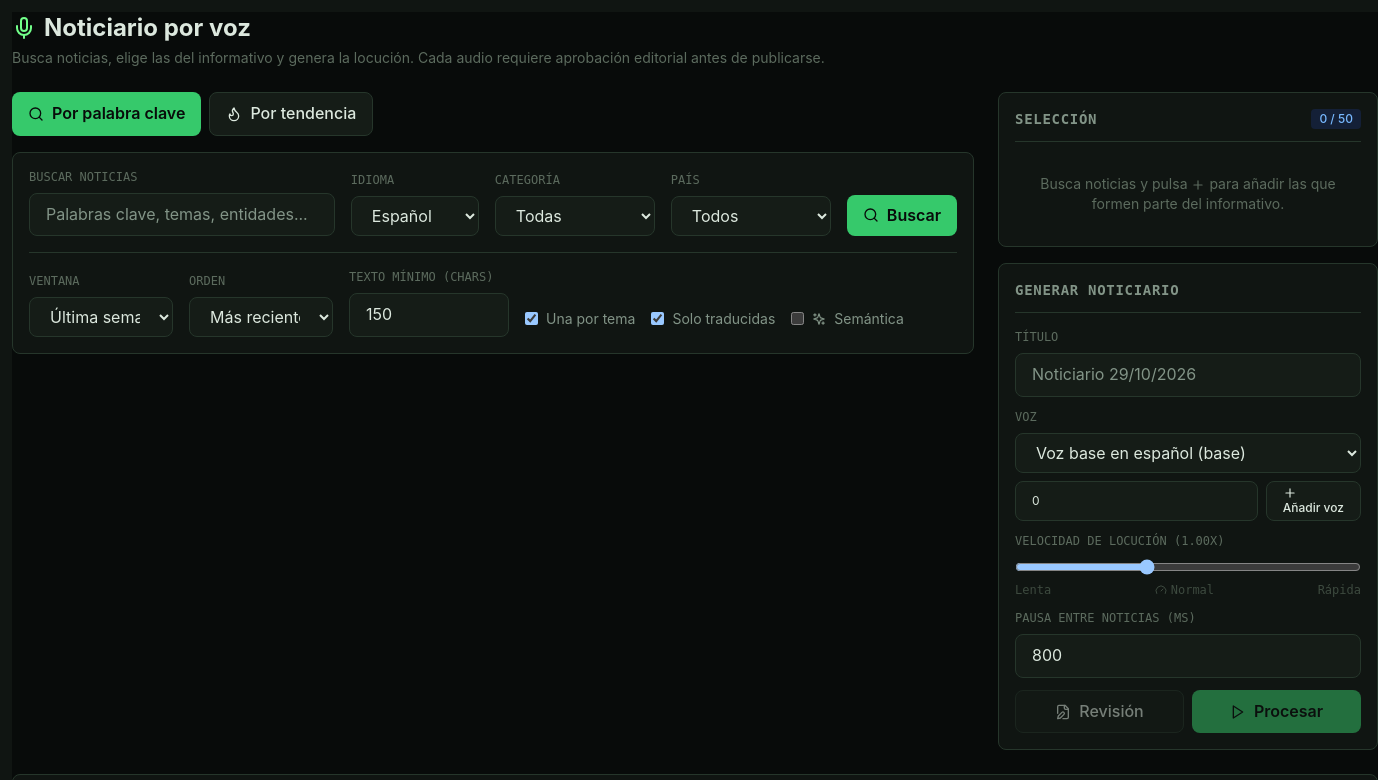
Scenario: Pagina de noticiario › busca con el termino escrito y muestra los resultados
The width and height of the screenshot is (1378, 780).
Type "economia" into the field with placeholder "Palabras clave, temas, entidades..." at (182, 214), box [29,193,335,236]
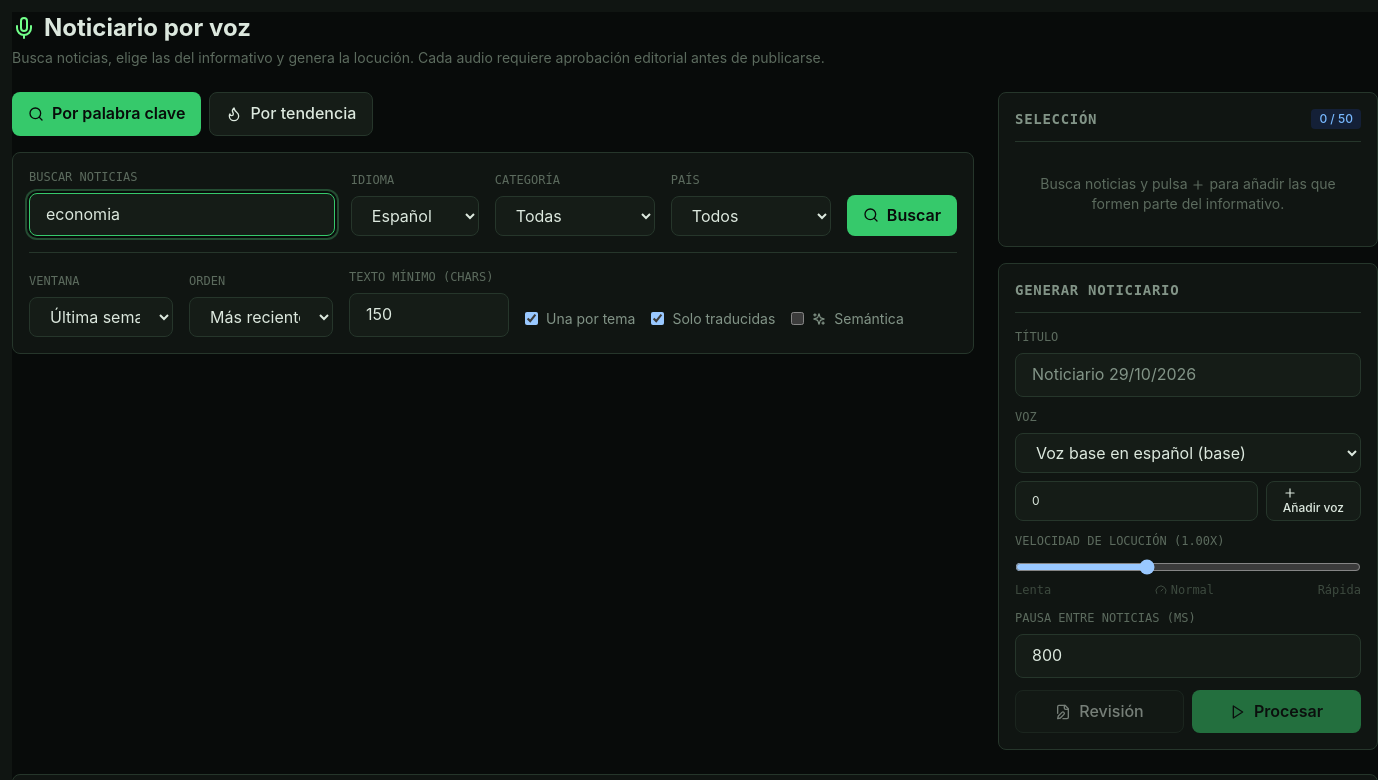
Click the button "Buscar" at (902, 215), box [847,195,957,236]
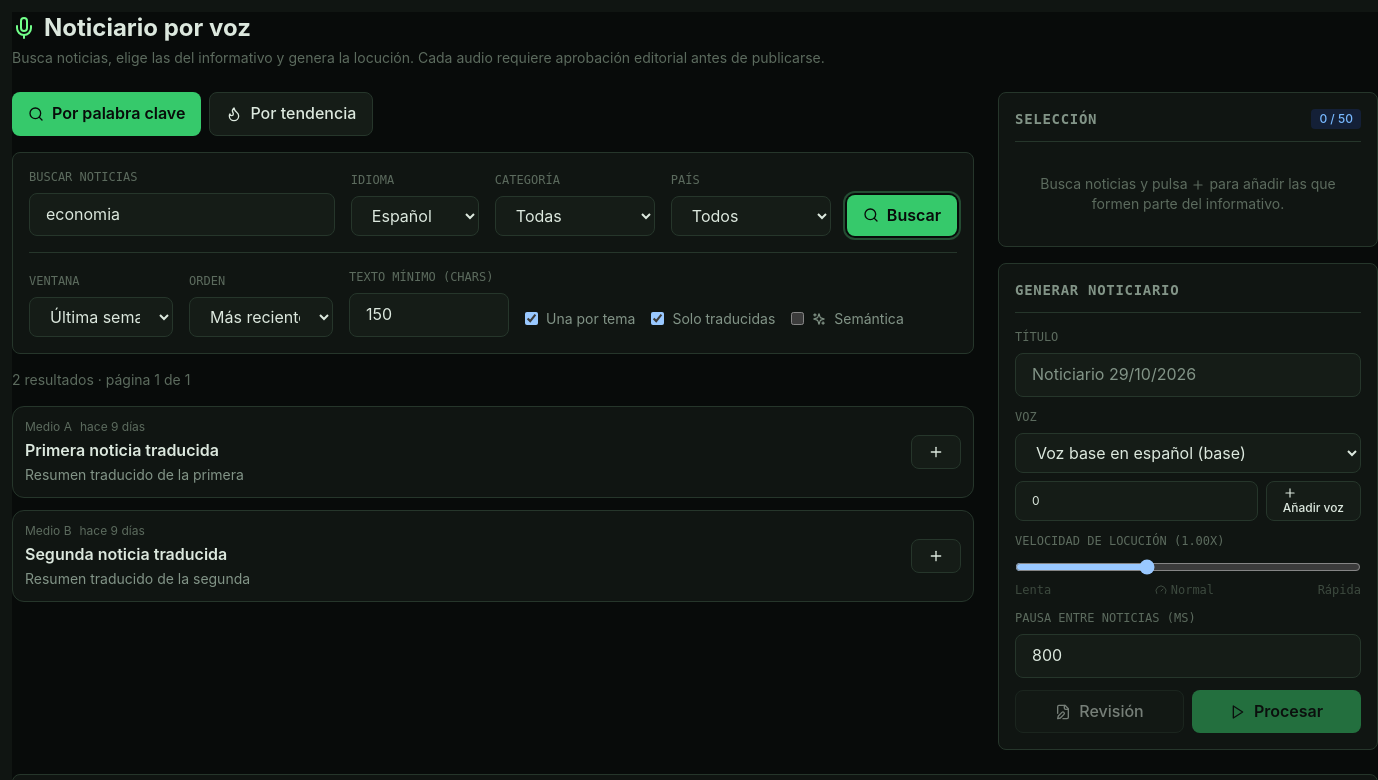
Result: the heading "Primera noticia traducida" is shown at [25,440,219,460]
Result: the heading "Segunda noticia traducida" is shown at [25,544,227,564]
